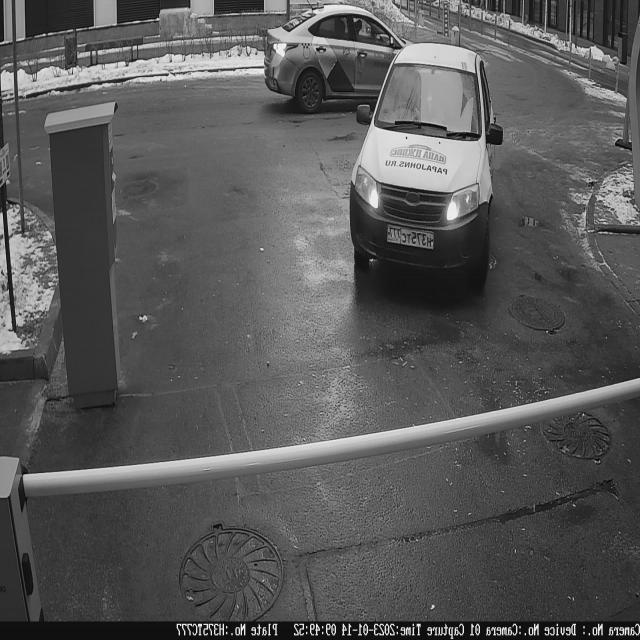car-plate-numbers: (385, 223, 437, 260)
